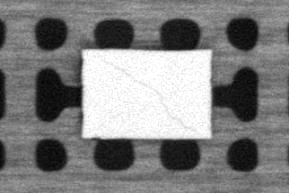DIE_CRACK: (99, 59, 197, 134)
